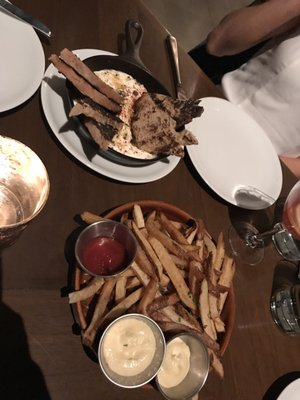salad: (0, 0, 53, 39)
sandwich: (0, 0, 53, 40)
sushi: (97, 313, 166, 390)
